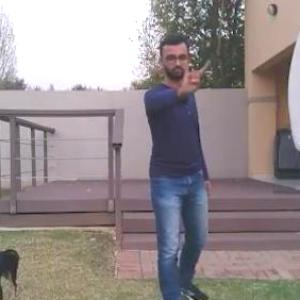takeoff-hand: (176, 50, 210, 91)
